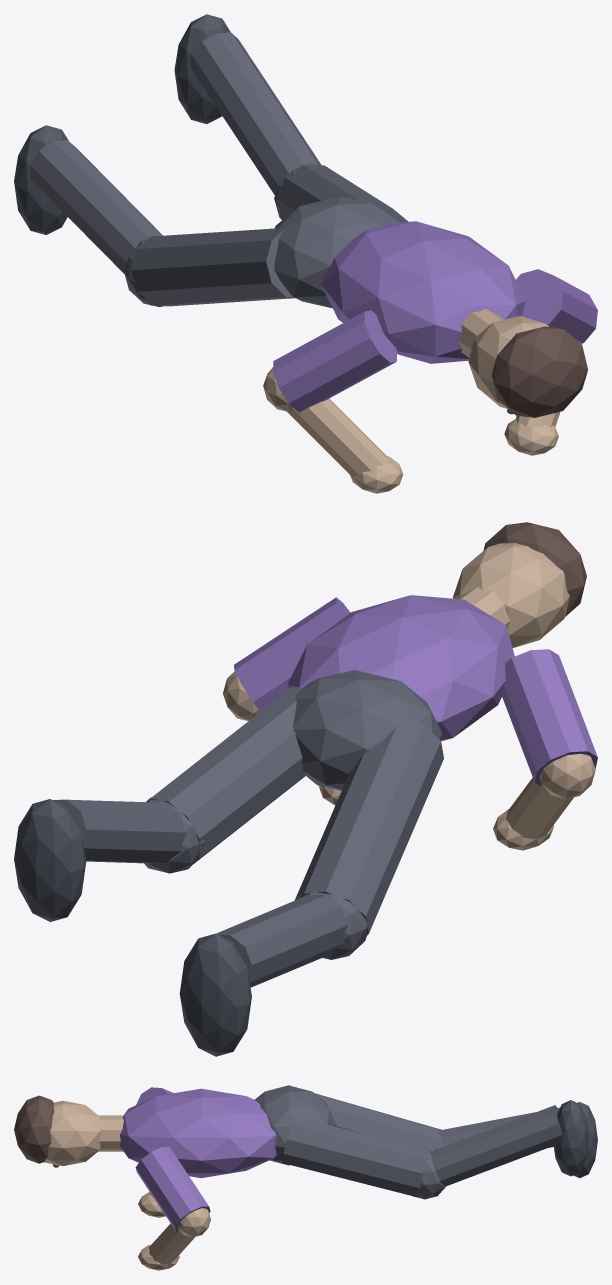
3 renders of one model, top to bottom at view 1: azimuth 30°, elevation 25°; view 2: azimuth 150°, elevation 25°; view 3: azimuth 270°, elevation 25°, orthographic. The views are drawn at different scales.
Parts seen in each view (by area): view 1: world; view 2: world; view 3: world.
Part boxes in pixels (<box>): world: <box>14,14,597,493</box>; world: <box>14,522,597,1056</box>; world: <box>14,1085,597,1270</box>.
Size of the model in its own units: 0.93 by 0.6213 by 2.07.
